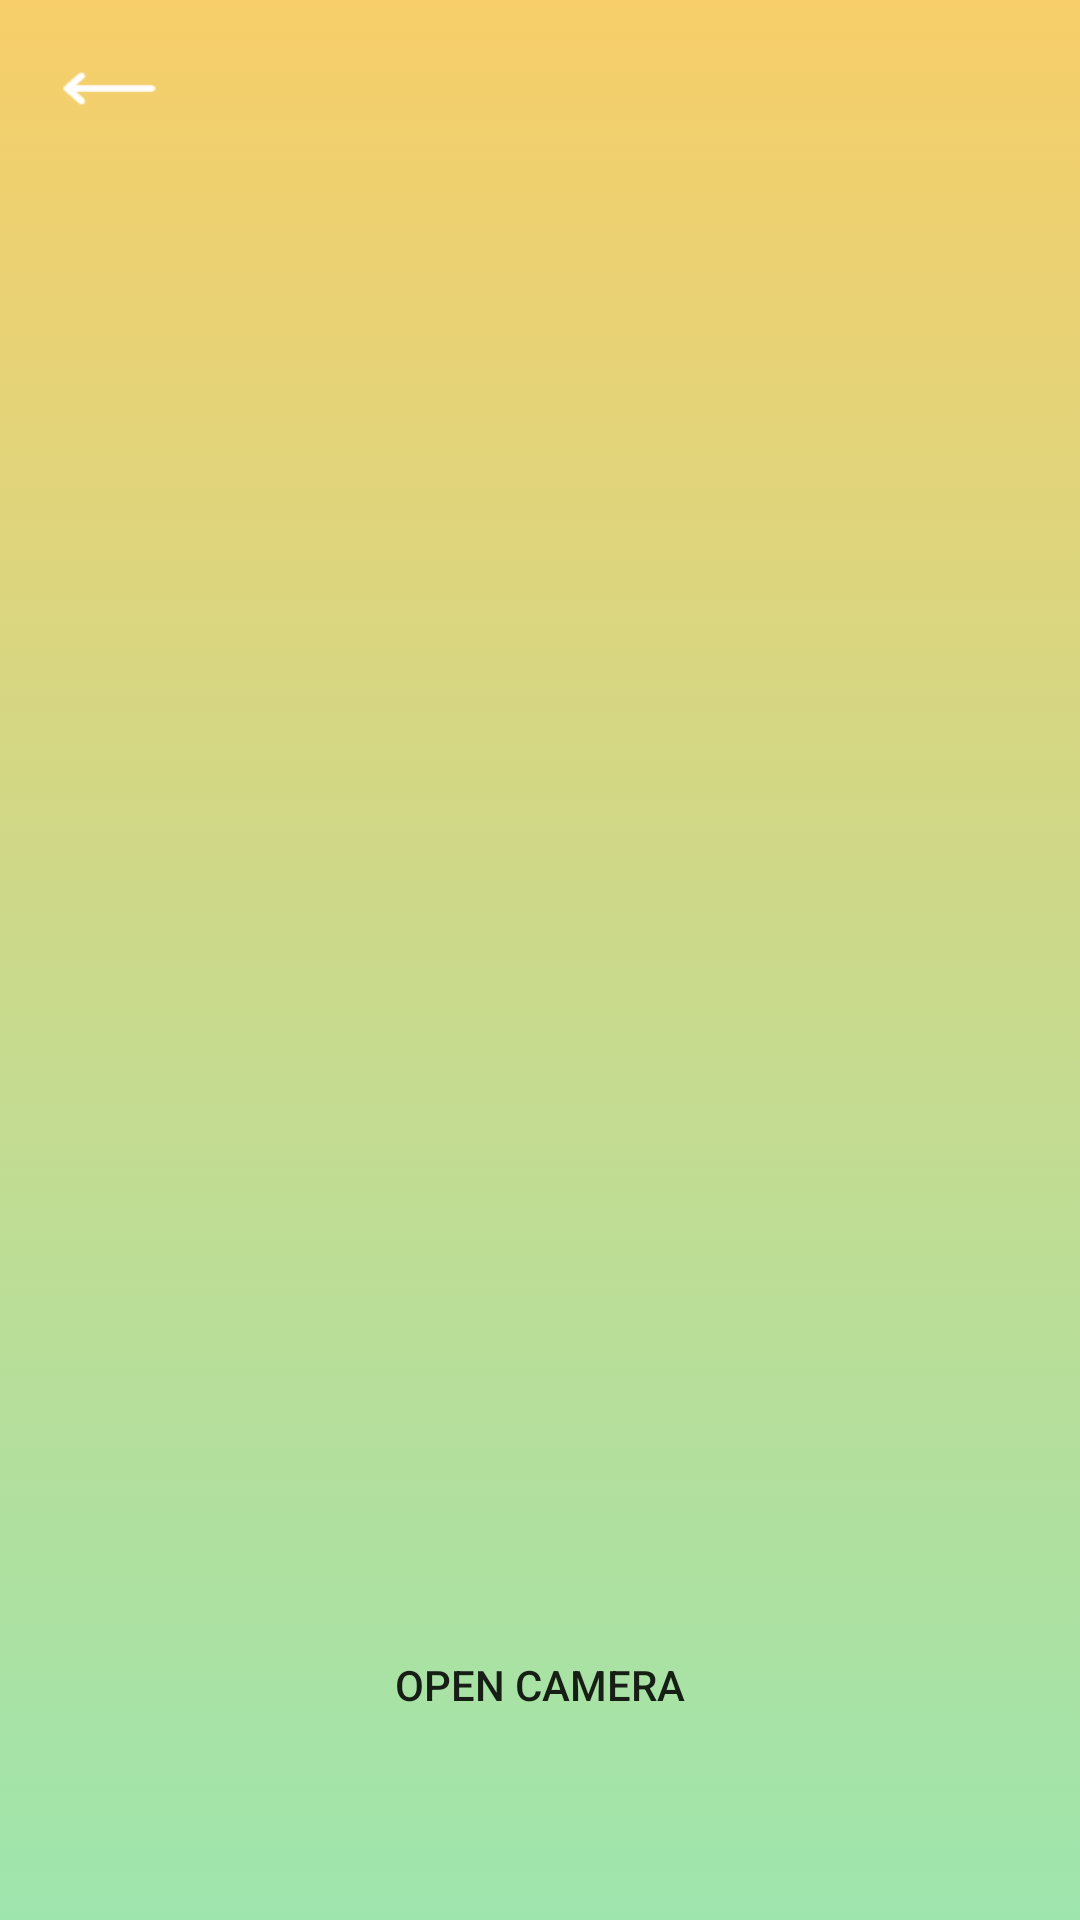

Screen size 1080*1920. Icon name, then its box in pixels as Rect(x1, y1, x2, y2):
backarrow: Rect(63, 72, 156, 105)
